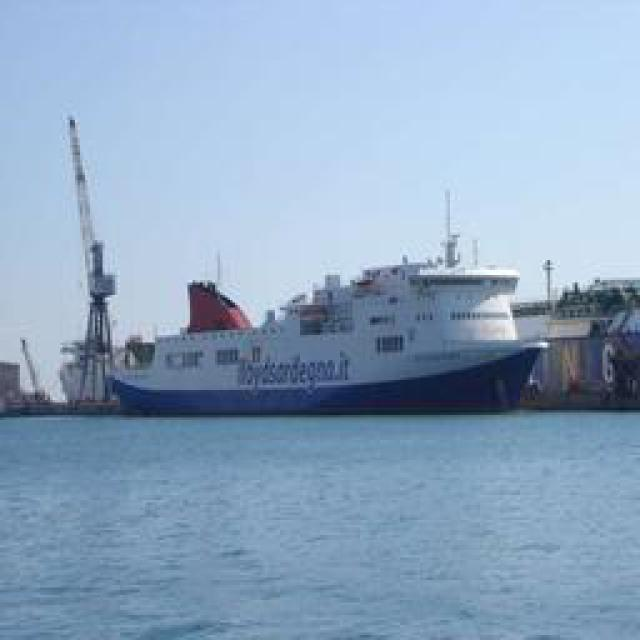Ship: (109, 189, 544, 422)
